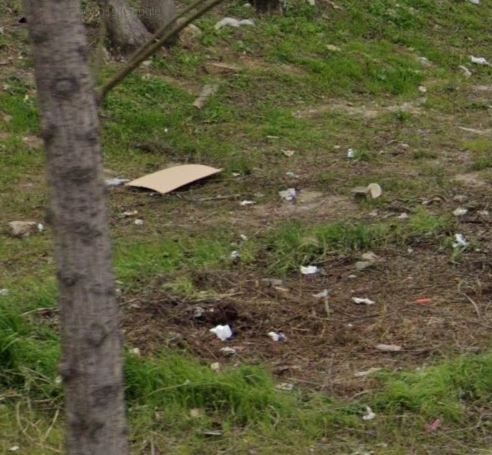trash: (112, 151, 227, 202), (344, 181, 385, 208), (215, 12, 256, 29), (209, 320, 238, 343), (446, 226, 472, 251), (265, 327, 294, 343), (297, 259, 324, 274), (359, 400, 378, 420), (351, 297, 386, 307)
